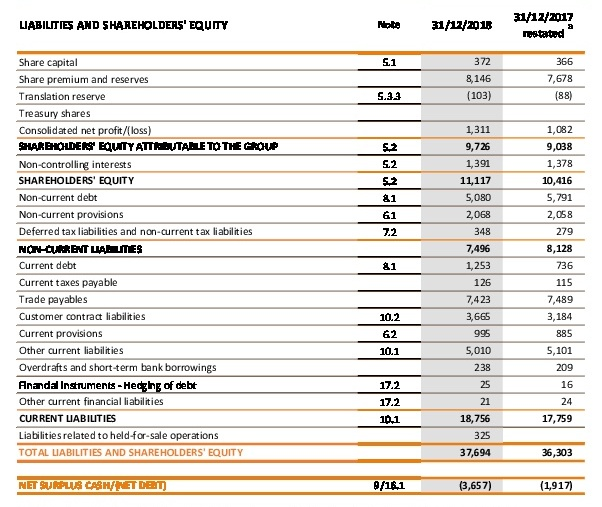table: (0, 0, 602, 507)
